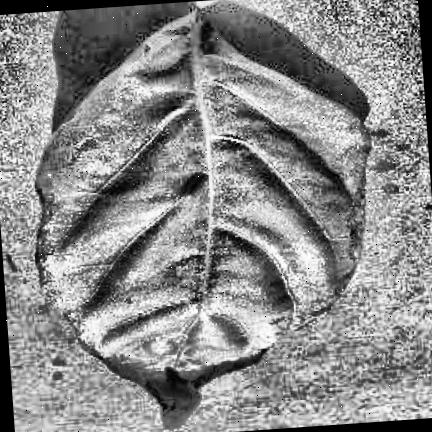leaf: (36, 11, 369, 426)
